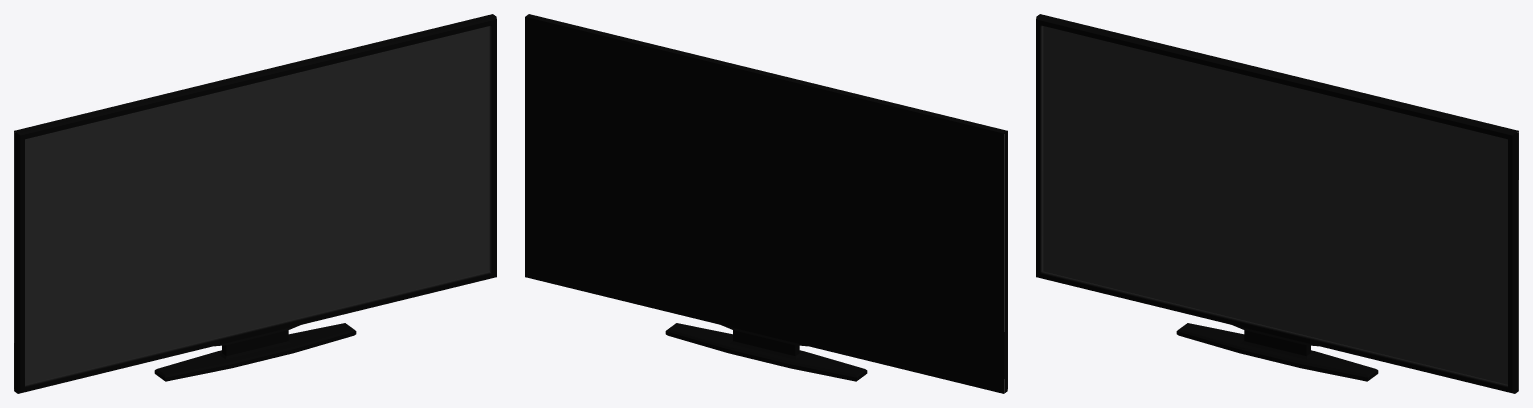
File: Television.fbx
3 views of the same model, side by side, from view 1: azimuth 30°, elevation 25°; view 2: azimuth 150°, elevation 25°; view 3: azimuth 330°, elevation 25° (orthographic).
Parts seen in each view (by area): view 1: pCube1, pCube2; view 2: pCube1, pCube2; view 3: pCube1, pCube2.
Part boxes in pixels (box(x1,y1,x2,y2)): pCube1: box(14, 14, 496, 393); pCube2: box(154, 323, 356, 381); pCube1: box(525, 14, 1007, 393); pCube2: box(665, 323, 867, 381); pCube1: box(1036, 14, 1518, 393); pCube2: box(1176, 323, 1378, 381).
Bounding box in the file's own units: 2.24 × 1.26 × 0.1304.
